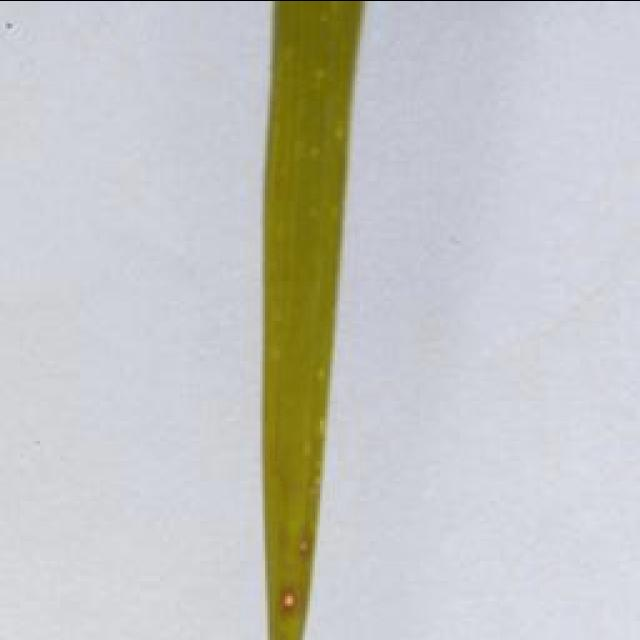Unhealthy: (277, 584, 300, 613), (297, 537, 314, 555)
